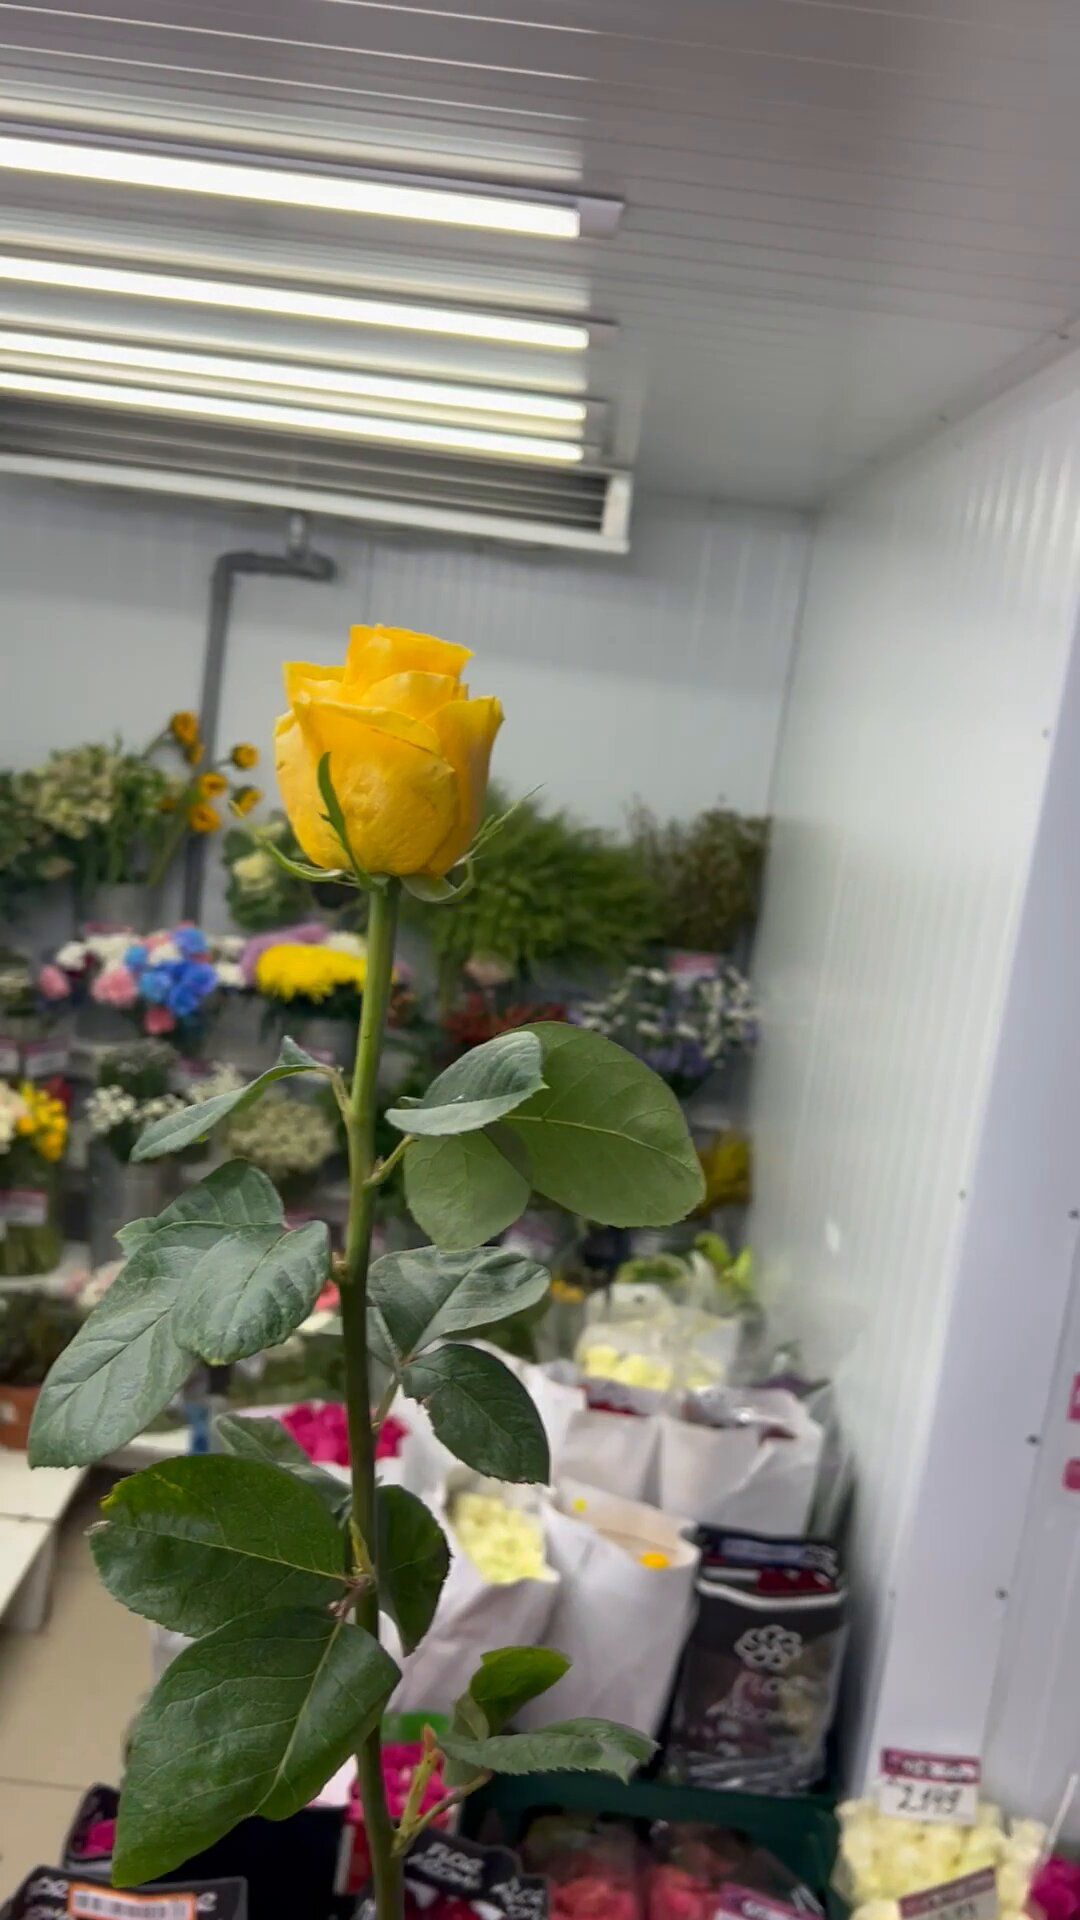rose: (91, 611, 737, 1887)
